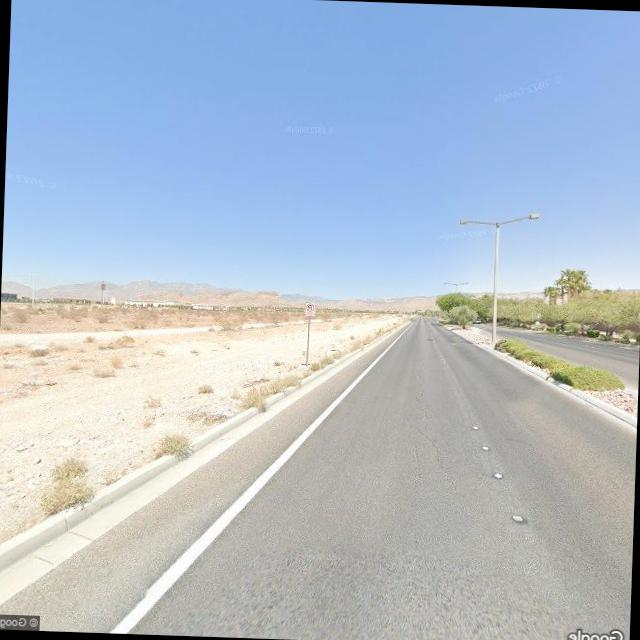crack: (412, 368, 452, 472)
